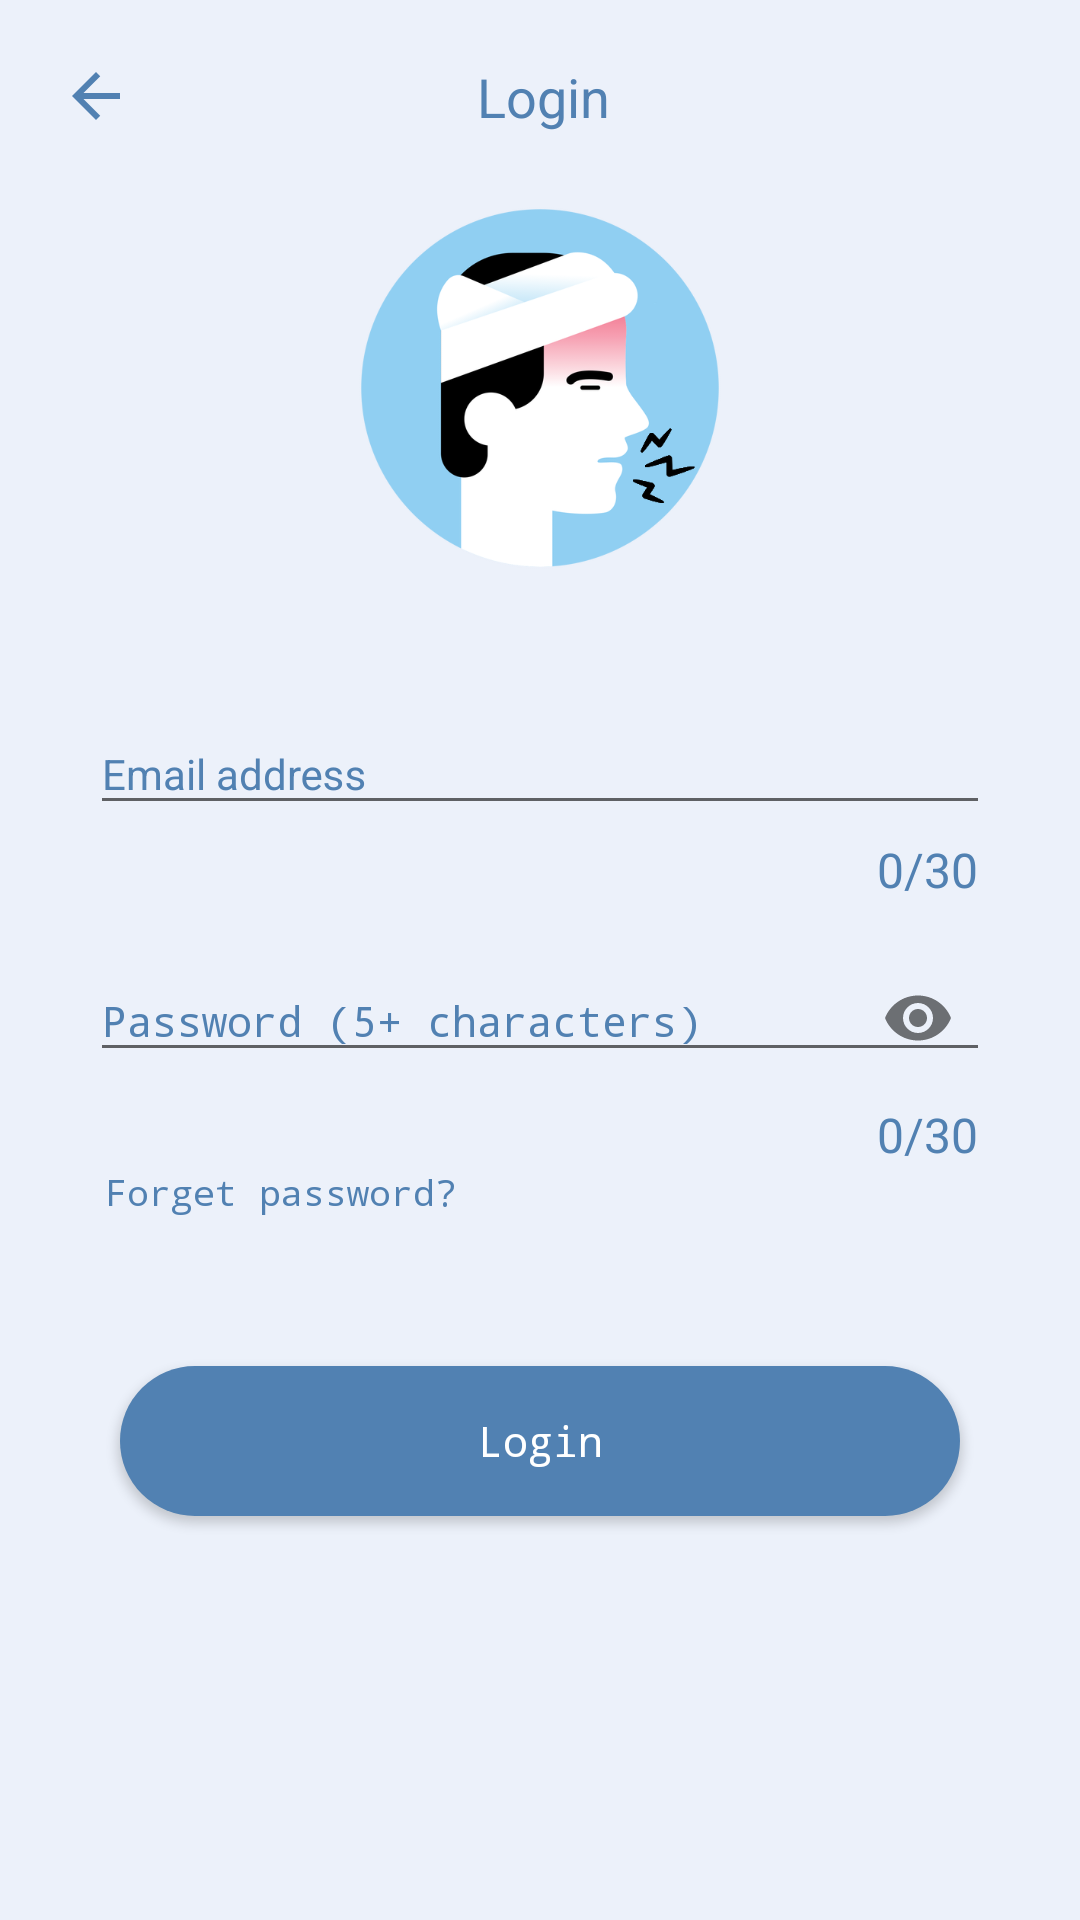

Point at icon controls on the screen. Image size 1080px×1920px, points as (x=x, y=y).
backside: (x=96, y=96)
